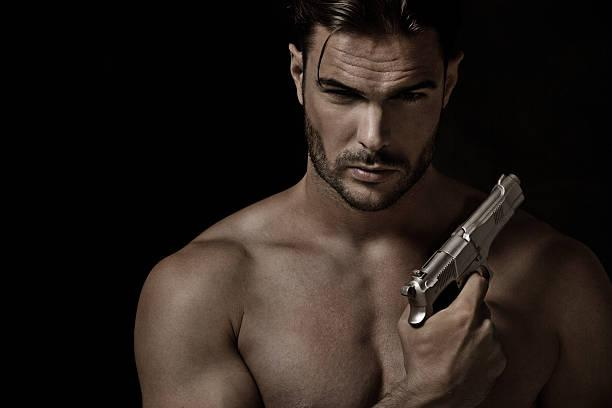weapon: (398, 167, 530, 330)
